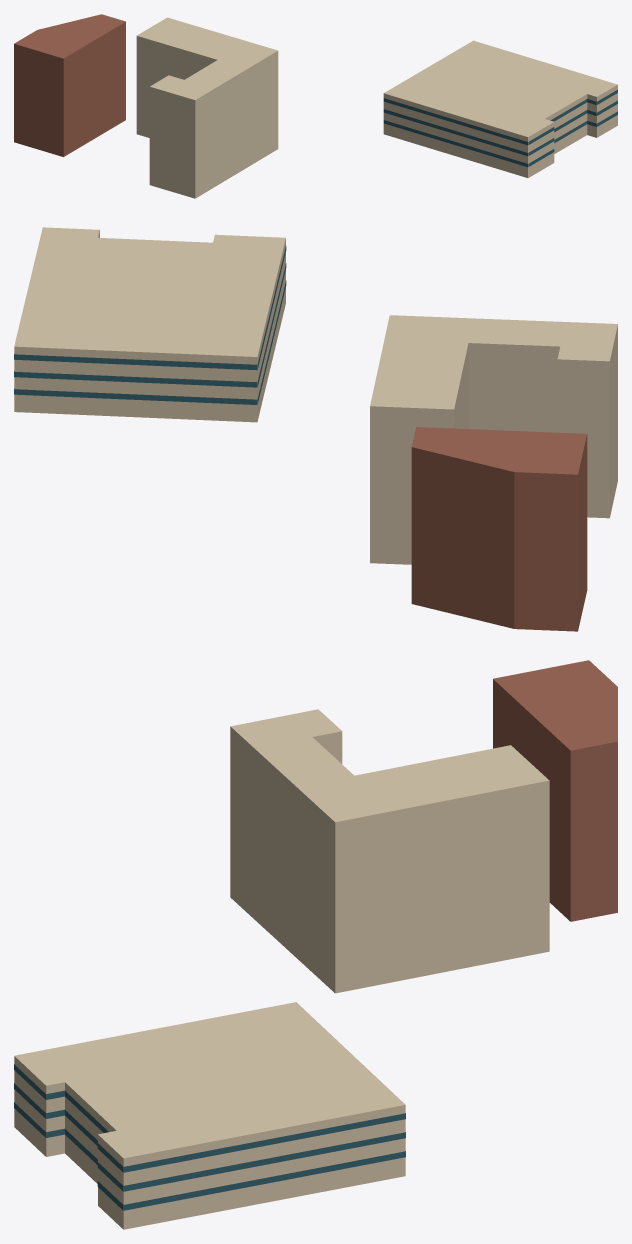
File: city_3_6.glb
3 renders of one model, top to bottom at view 1: azimuth 30°, elevation 25°; view 2: azimuth 150°, elevation 25°; view 3: azimuth 270°, elevation 25°, orthographic. The views are drawn at different scales.
Parts seen in each view (by area): view 1: city_3_6; view 2: city_3_6; view 3: city_3_6.
Part boxes in pixels (x1,y1,x2,y2): city_3_6: (14, 14, 617, 198); city_3_6: (14, 227, 617, 631); city_3_6: (14, 660, 617, 1229).
Bounding box in the file's own units: 180 × 36 × 115.
